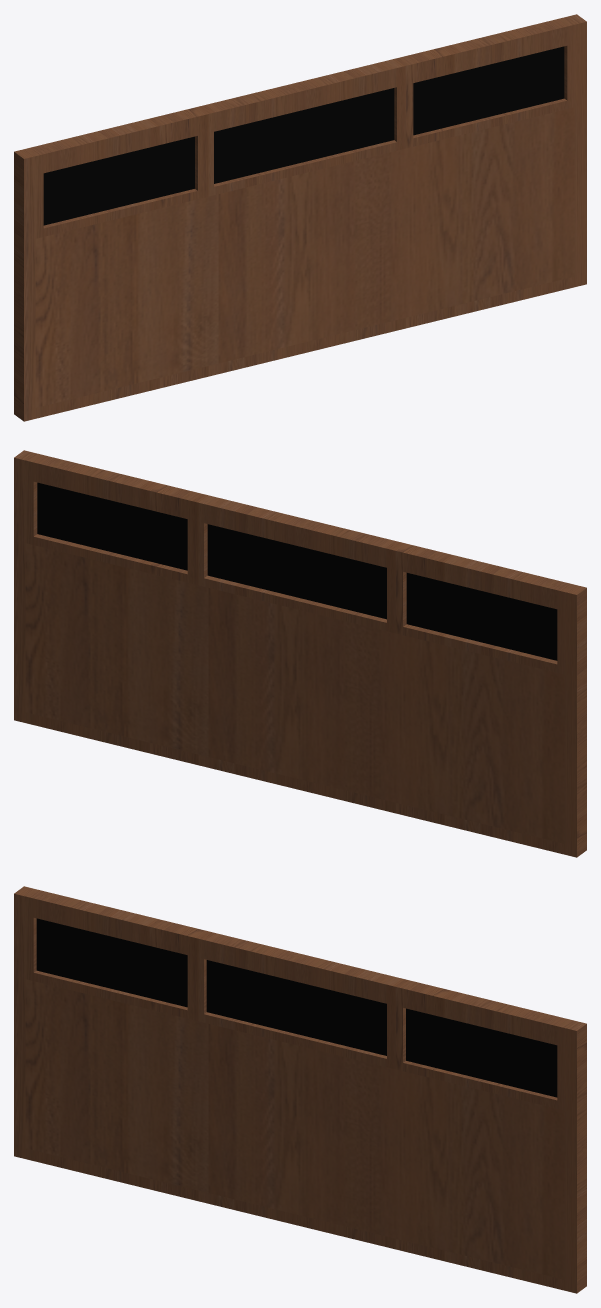
File: partition.fbx
The picture shows the model from 3 angles, top to bottom: view 1: azimuth 30°, elevation 25°; view 2: azimuth 150°, elevation 25°; view 3: azimuth 330°, elevation 25°; orthographic projection.
Visible parts, largest first — view 1: partition; view 2: partition; view 3: partition.
Part boxes in pixels (<box>): partition: <box>14,14,586,421</box>; partition: <box>14,450,586,857</box>; partition: <box>14,886,586,1293</box>.
Size of the model in its own units: 298 by 133 by 9.25.
Materials: 2 (1 with a texture image).
